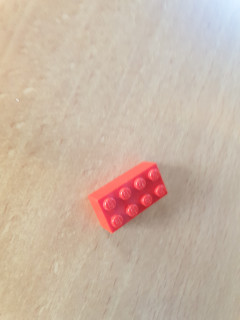2x4 red: (84, 161, 171, 234)
